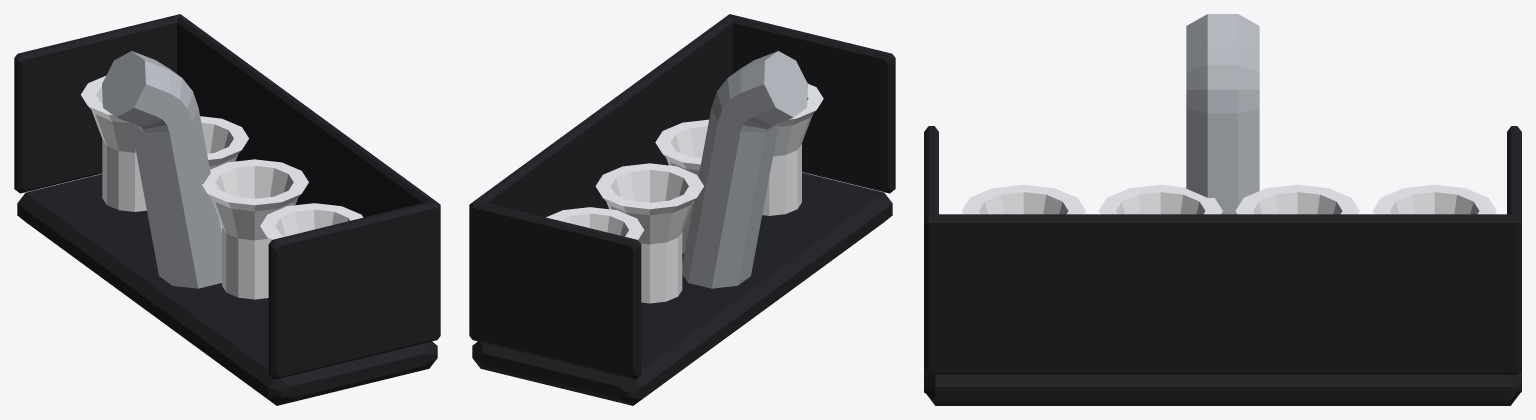
File: hana_roadster.glb
3 renders of one model, left to right at view 1: azimuth 30°, elevation 25°; view 2: azimuth 150°, elevation 25°; view 3: azimuth 270°, elevation 25°, orthographic. The views are drawn at different scales.
Visible parts, largest first — view 1: model; view 2: model; view 3: model.
Boxes of the visible parts, x1=… form: model: x1=14, y1=14, x2=440, y2=405; model: x1=469, y1=14, x2=895, y2=405; model: x1=924, y1=14, x2=1521, y2=405.
Bounding box in the file's own units: 0.2152 × 0.2707 × 0.48.
3 materials, 1 textured.
